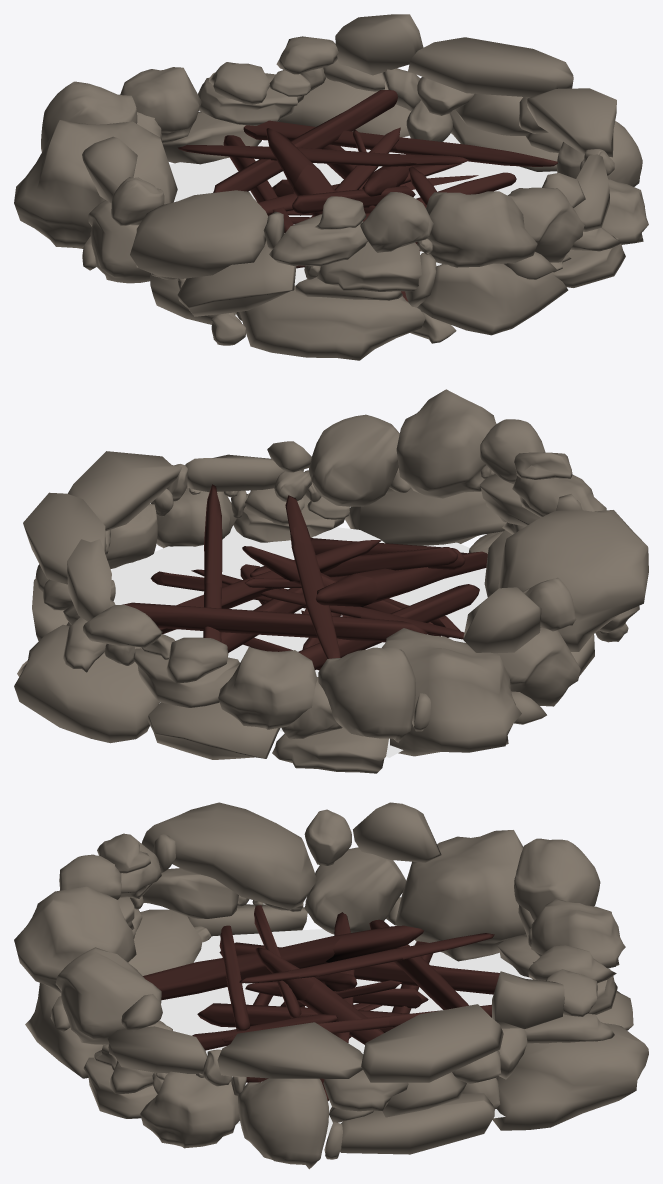
File: fireplace.fbx
3 renders of one model, top to bottom at view 1: azimuth 30°, elevation 25°; view 2: azimuth 150°, elevation 25°; view 3: azimuth 270°, elevation 25°, orthographic. The views are drawn at different scales.
Visible parts, largest first — view 1: rocks, wood; view 2: rocks, wood; view 3: rocks, wood.
Boxes of the visible parts, x1,y1,x2,y2 form: rocks: (14,14,648,360); wood: (169,90,557,315); rocks: (14,389,648,773); wood: (111,484,487,757); rocks: (14,802,648,1169); wood: (143,905,532,1134).
Bounding box in the file's own units: 149 × 39.46 × 149.
